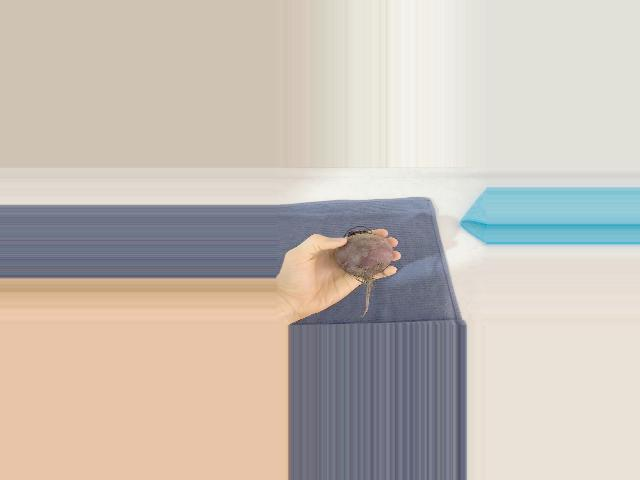beet: (335, 226, 393, 317)
